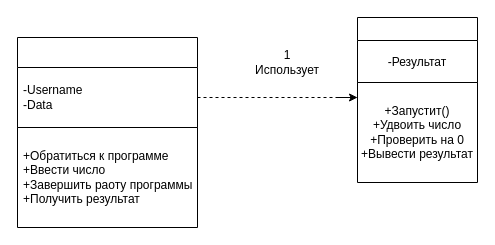
Image size: 495x245. Some labels were removed from this diagram. The shapes that lost their labels are listed below. From the top down, each one's box as (x1, y1, x2, y2) in pixels, then its label:
(356, 16, 478, 82): Рабочий код
(16, 36, 198, 128): Пользователь
